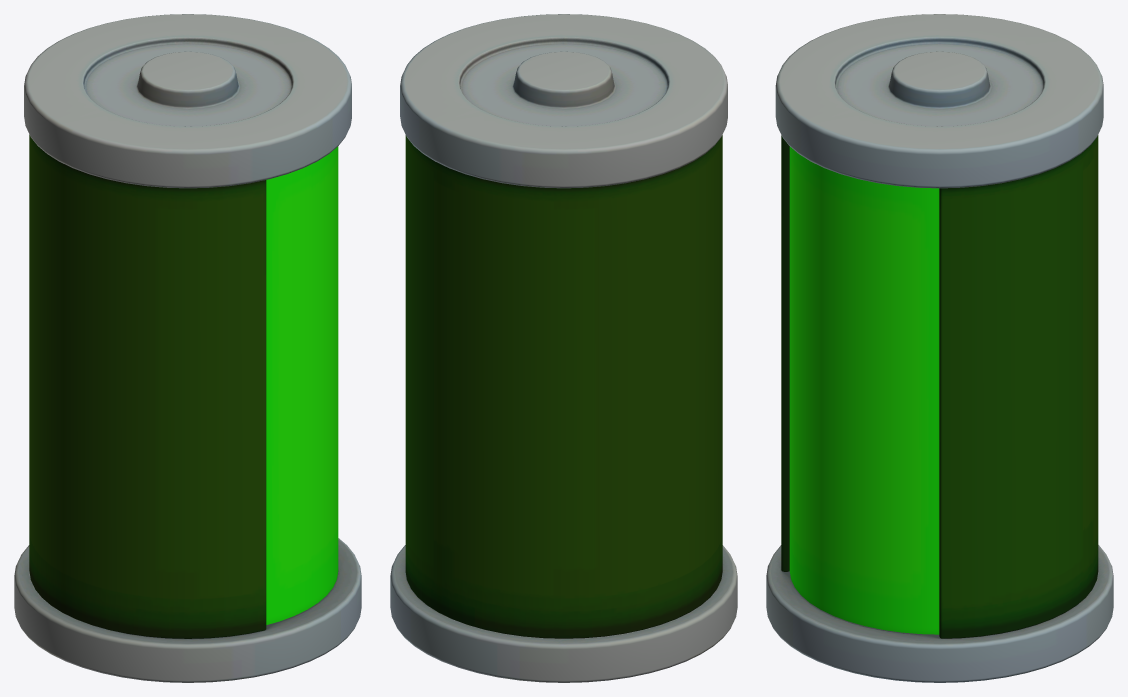
The model's file is battery.fbx.
The picture shows the model from 3 angles, left to right: view 1: azimuth 30°, elevation 25°; view 2: azimuth 150°, elevation 25°; view 3: azimuth 270°, elevation 25°; orthographic projection.
Parts seen in each view (by area): view 1: node_id30; view 2: node_id30; view 3: node_id30.
Boxes of the visible parts, x1,y1,x2,y2 form: node_id30: [14, 14, 361, 682]; node_id30: [390, 14, 737, 682]; node_id30: [766, 14, 1113, 682].
Bounding box in the file's own units: 0.1174 × 0.2016 × 0.1174.
